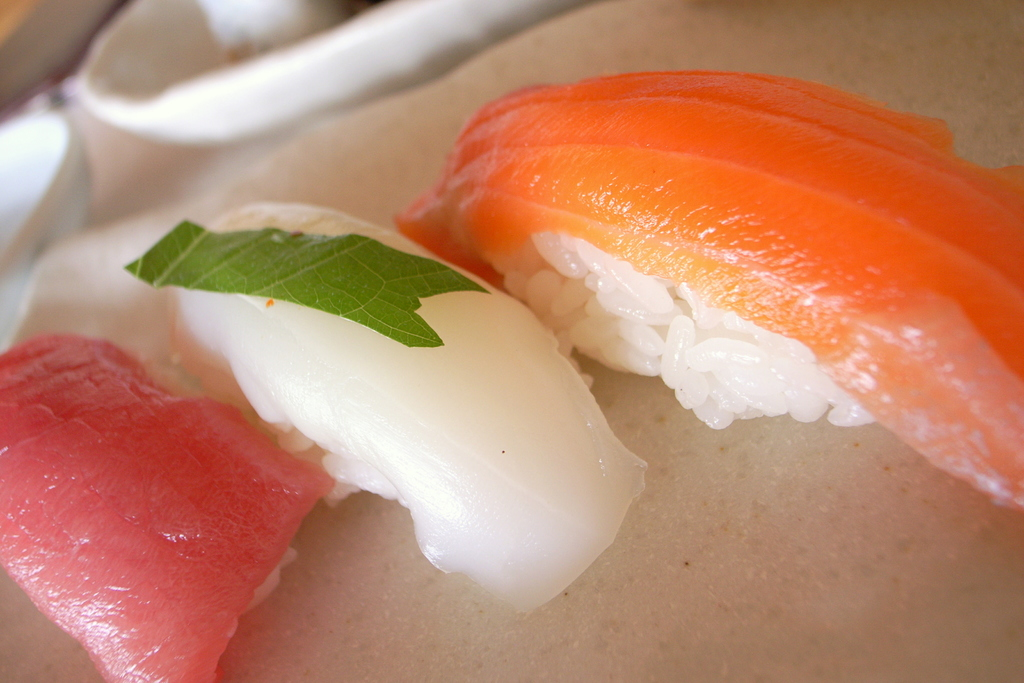sushi: (386, 84, 1020, 527), (175, 200, 648, 613), (0, 336, 342, 682)
